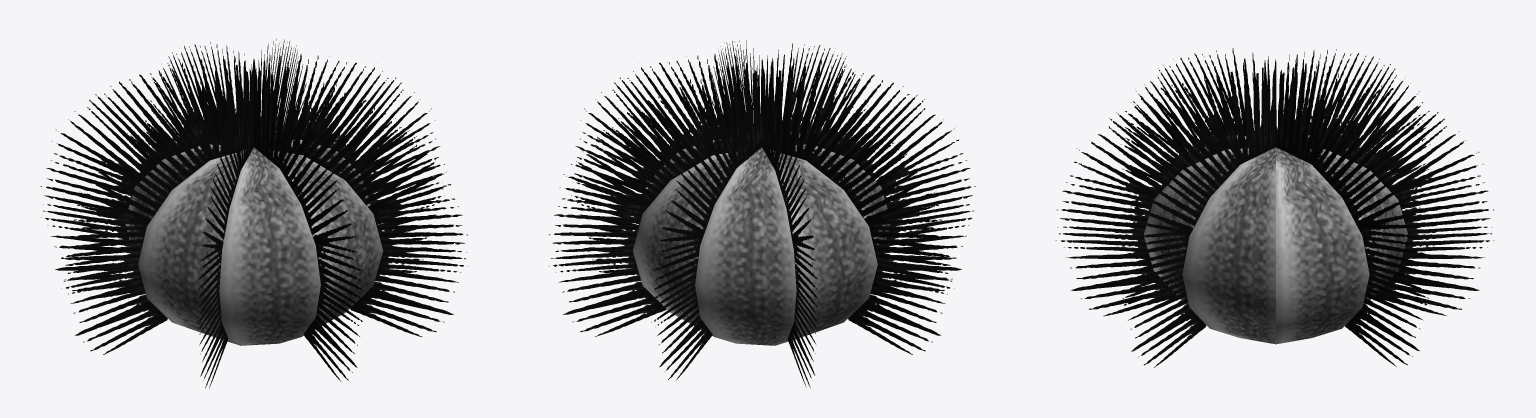
The model's file is urchinWithHairLongBlack.fbx.
3 renders of one model, left to right at view 1: azimuth 30°, elevation 25°; view 2: azimuth 150°, elevation 25°; view 3: azimuth 270°, elevation 25°, orthographic.
Parts seen in each view (by area): view 1: urchinWithHairLongBlackObject1; view 2: urchinWithHairLongBlackObject1; view 3: urchinWithHairLongBlackObject1.
Boxes of the visible parts, bbox=[...] form: urchinWithHairLongBlackObject1: bbox=[40, 39, 468, 388]; urchinWithHairLongBlackObject1: bbox=[549, 40, 975, 387]; urchinWithHairLongBlackObject1: bbox=[1055, 48, 1494, 367].
Bounding box in the file's own units: 0.1969 × 0.1244 × 0.1969.
1 material, 1 textured.
